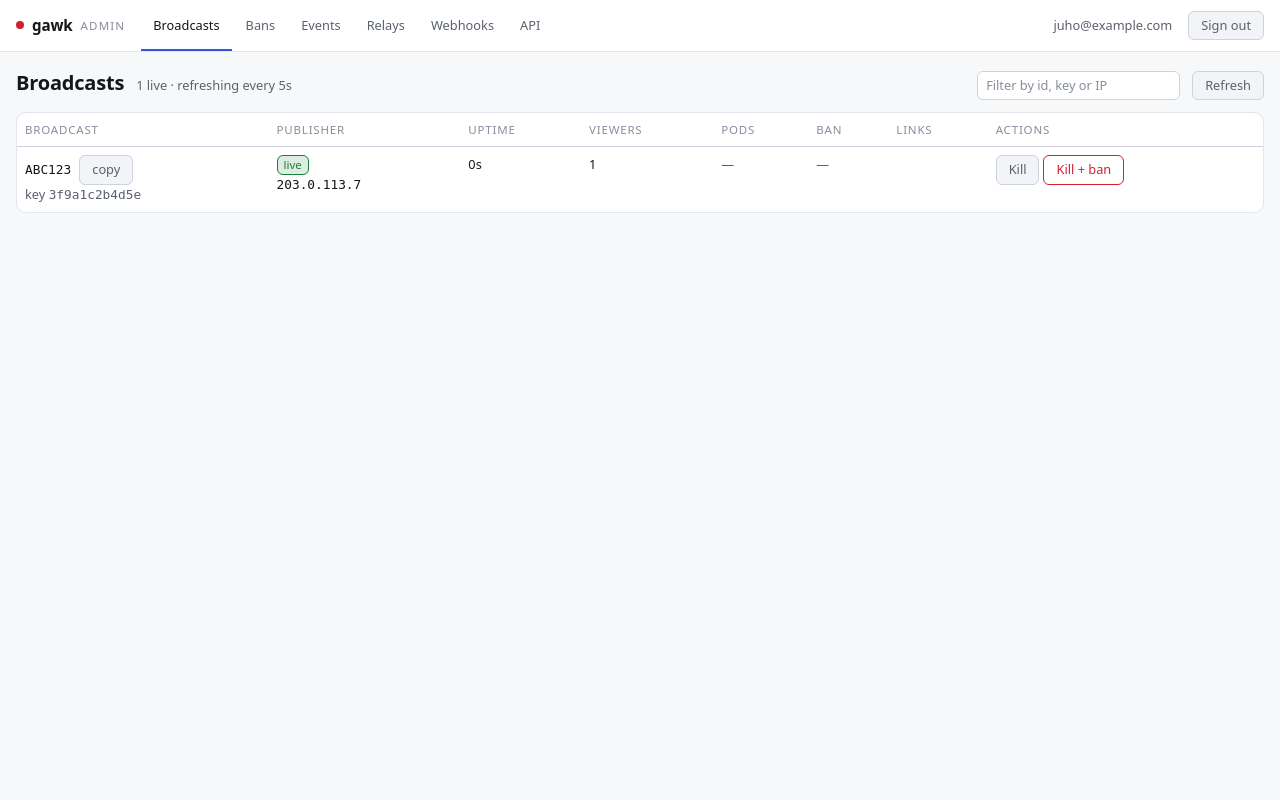
Test: the shell › feeds the server’s kill cooldown into the kill dialog
Click the button "Kill". click: (1018, 170)
box: top-left (996, 156), bottom-right (1040, 185)
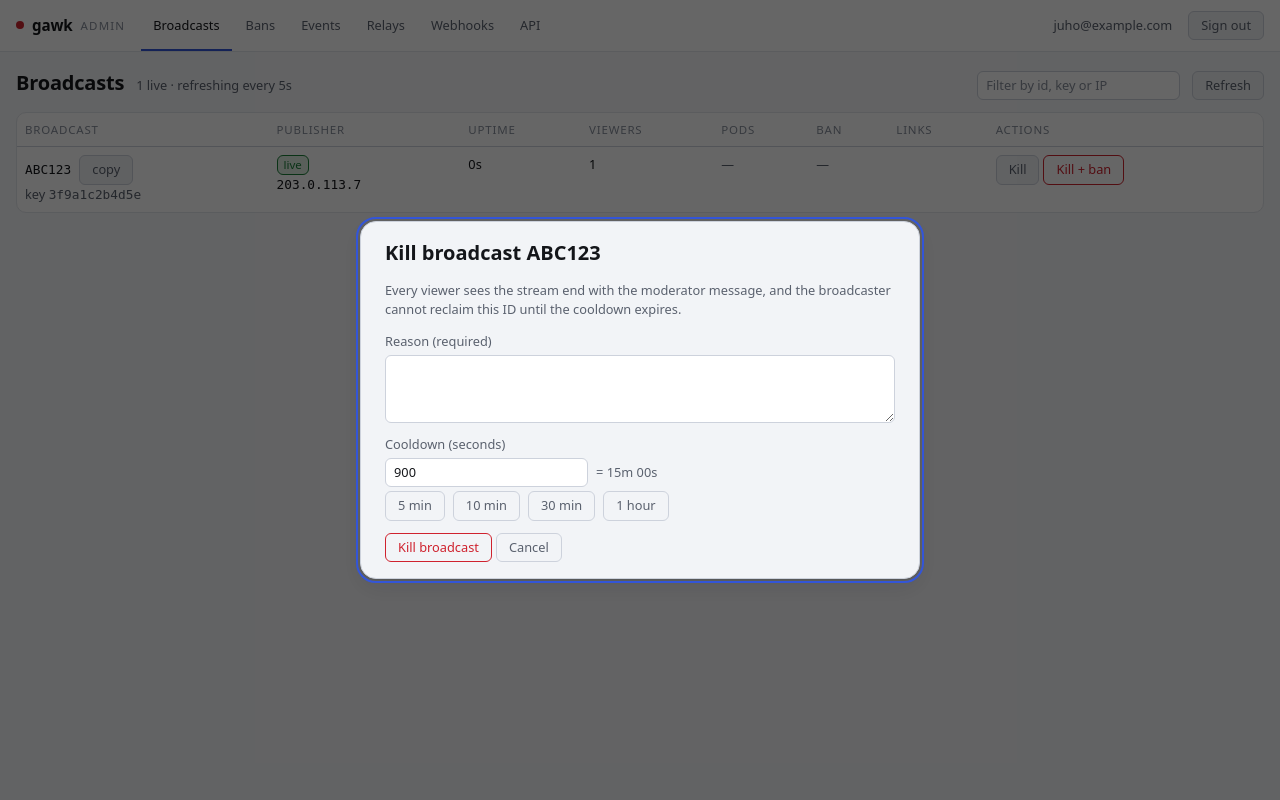
expect the number field labelled "Cooldown (seconds)" holds "900": met, box top-left (385, 458), bottom-right (588, 487)
